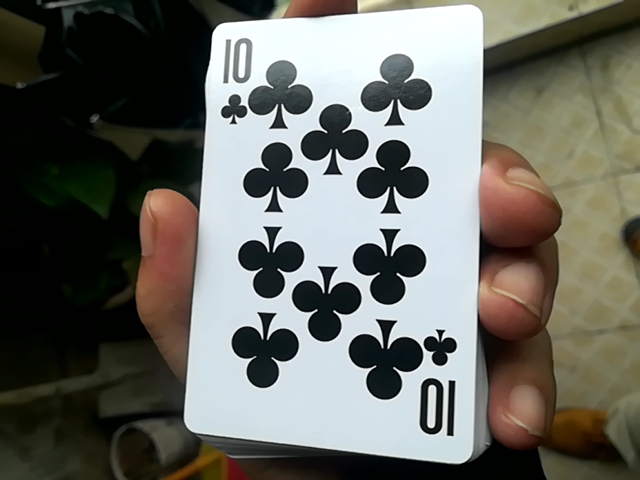mh 10: (181, 2, 479, 450)
